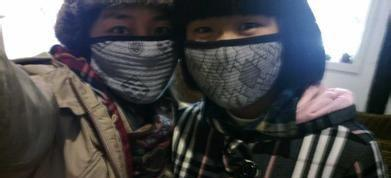OK: (96, 15, 179, 98), (193, 19, 275, 101)
